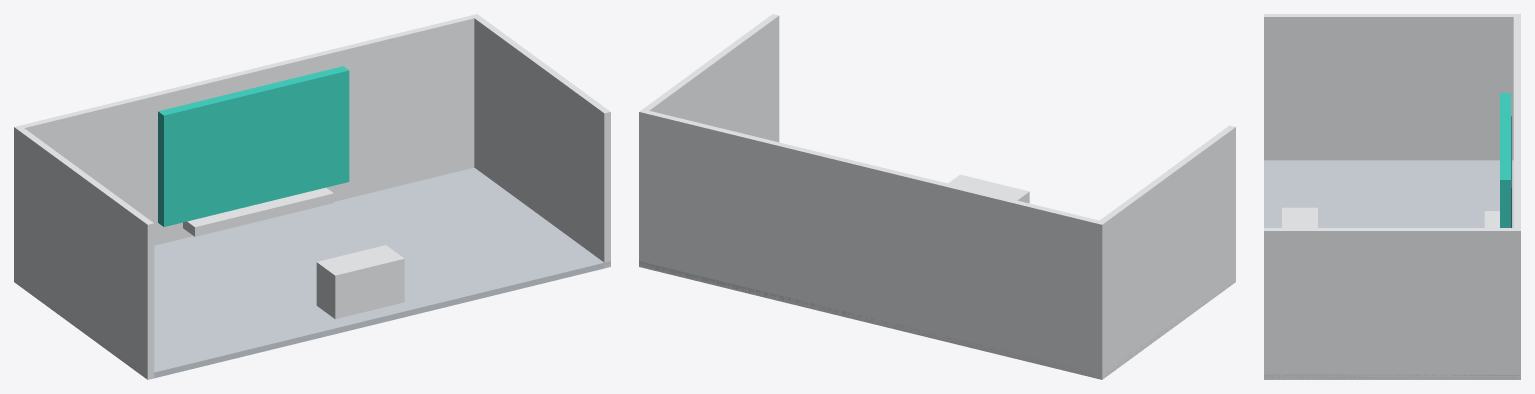
3 views of the same model, side by side, from view 1: azimuth 30°, elevation 25°; view 2: azimuth 150°, elevation 25°; view 3: azimuth 270°, elevation 25° (orthographic). The views are drawn at different scales.
Parts seen in each view (by area): view 1: Exhibition Booth Concept; view 2: Exhibition Booth Concept; view 3: Exhibition Booth Concept.
Part boxes in pixels (x1,y1,x2,y2): Exhibition Booth Concept: [14, 14, 610, 379]; Exhibition Booth Concept: [639, 14, 1235, 379]; Exhibition Booth Concept: [1264, 14, 1520, 379].
Size of the model in its own units: 10 by 3.2 by 5.
